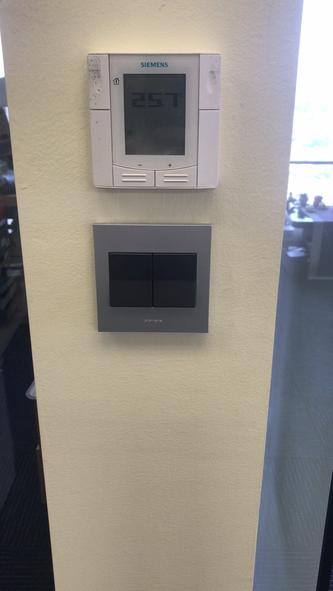switch: (151, 248, 193, 309), (110, 248, 151, 305)
